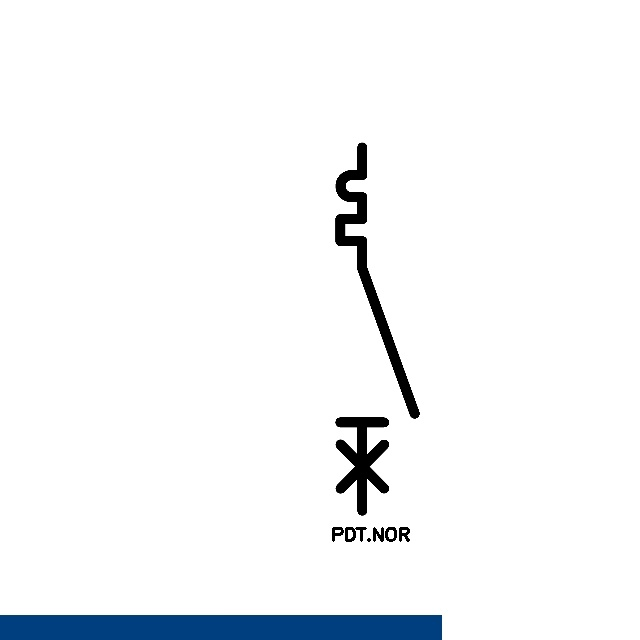interruptor_termomagnetico: (331, 138, 424, 520)
